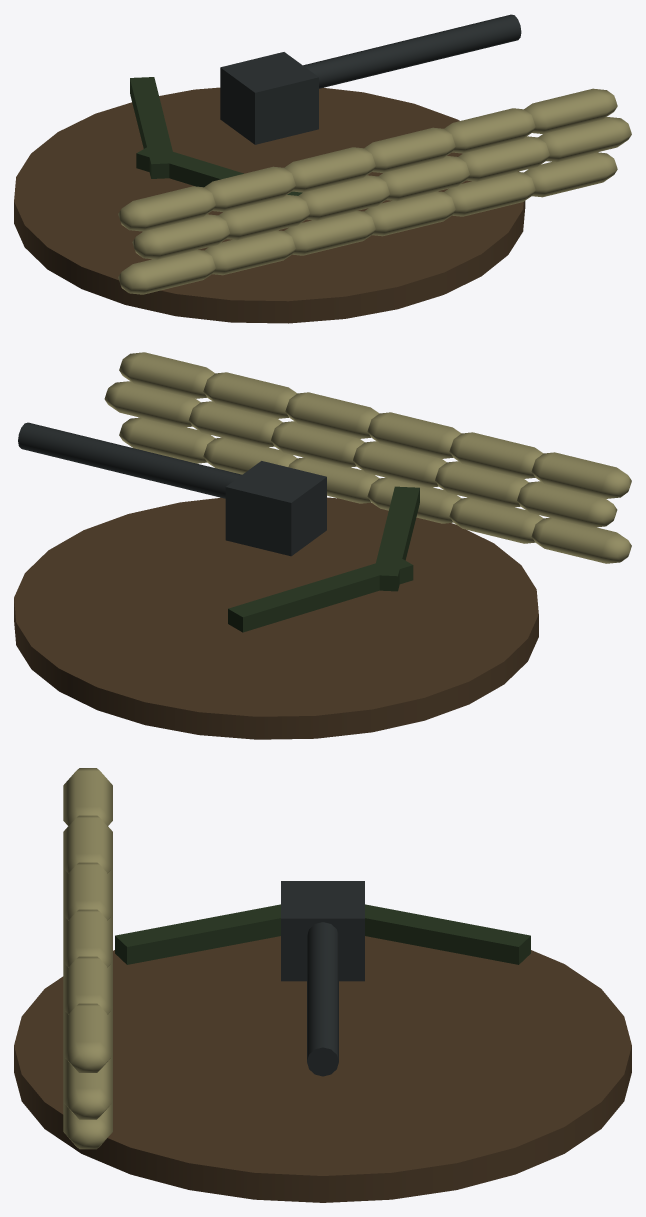
Rendered from artillery-pit.glb.
3 renders of one model, top to bottom at view 1: azimuth 30°, elevation 25°; view 2: azimuth 150°, elevation 25°; view 3: azimuth 270°, elevation 25°, orthographic. The views are drawn at different scales.
Parts seen in each view (by area): view 1: pitBase, breech, howitzerBarrel, artillerySandbag3_1, artillerySandbag1_1, artillerySandbag2_1, trailRight, artillerySandbag3_6, artillerySandbag3_5, artillerySandbag3_3, artillerySandbag3_2, artillerySandbag3_4 (+11 smaller); view 2: pitBase, breech, howitzerBarrel, trailRight, artillerySandbag3_1, artillerySandbag1_1, artillerySandbag2_1, trailLeft, artillerySandbag3_6, artillerySandbag3_3, artillerySandbag3_2, artillerySandbag3_4 (+11 smaller); view 3: pitBase, breech, trailLeft, trailRight, howitzerBarrel, artillerySandbag3_6, artillerySandbag3_1, artillerySandbag3_2, artillerySandbag3_3, artillerySandbag3_5, artillerySandbag3_4, artillerySandbag2_6 (+1 smaller).
Part boxes in pixels (left/top/right/bottom): pitBase: left=14, top=87, right=525, bottom=323; breech: left=220, top=52, right=318, bottom=144; howitzerBarrel: left=303, top=14, right=521, bottom=88; artillerySandbag3_1: left=118, top=186, right=215, bottom=231; artillerySandbag1_1: left=118, top=250, right=215, bottom=294; artillerySandbag2_1: left=132, top=214, right=229, bottom=259; trailRight: left=130, top=77, right=175, bottom=178; artillerySandbag3_6: left=524, top=88, right=617, bottom=133; artillerySandbag3_5: left=444, top=108, right=535, bottom=153; artillerySandbag3_3: left=284, top=147, right=375, bottom=192; artillerySandbag3_2: left=204, top=166, right=295, bottom=211; artillerySandbag3_4: left=364, top=127, right=455, bottom=172; pitBase: left=14, top=497, right=538, bottom=739; breech: left=225, top=461, right=326, bottom=556; howitzerBarrel: left=18, top=422, right=241, bottom=498; trailRight: left=228, top=556, right=413, bottom=632; artillerySandbag3_1: left=531, top=452, right=631, bottom=498; artillerySandbag1_1: left=531, top=517, right=631, bottom=563; artillerySandbag2_1: left=517, top=481, right=617, bottom=527; trailLeft: left=373, top=486, right=419, bottom=591; artillerySandbag3_6: left=119, top=352, right=214, bottom=398; artillerySandbag3_3: left=367, top=412, right=461, bottom=458; artillerySandbag3_2: left=449, top=432, right=543, bottom=478; artillerySandbag3_4: left=285, top=392, right=379, bottom=438; pitBase: left=14, top=936, right=631, bottom=1202; breech: left=281, top=881, right=364, bottom=981; trailLeft: left=115, top=904, right=280, bottom=964; trailRight: left=365, top=904, right=530, bottom=964; howitzerBarrel: left=307, top=922, right=338, bottom=1076; artillerySandbag3_6: left=63, top=1003, right=112, bottom=1072; artillerySandbag3_1: left=63, top=768, right=112, bottom=826; artillerySandbag3_2: left=63, top=815, right=112, bottom=873; artillerySandbag3_3: left=63, top=862, right=112, bottom=920; artillerySandbag3_5: left=63, top=956, right=112, bottom=1014; artillerySandbag3_4: left=63, top=909, right=112, bottom=967; artillerySandbag2_6: left=63, top=1061, right=112, bottom=1119.
Size of the model in its own units: 2.87 by 0.77 by 2.5.
